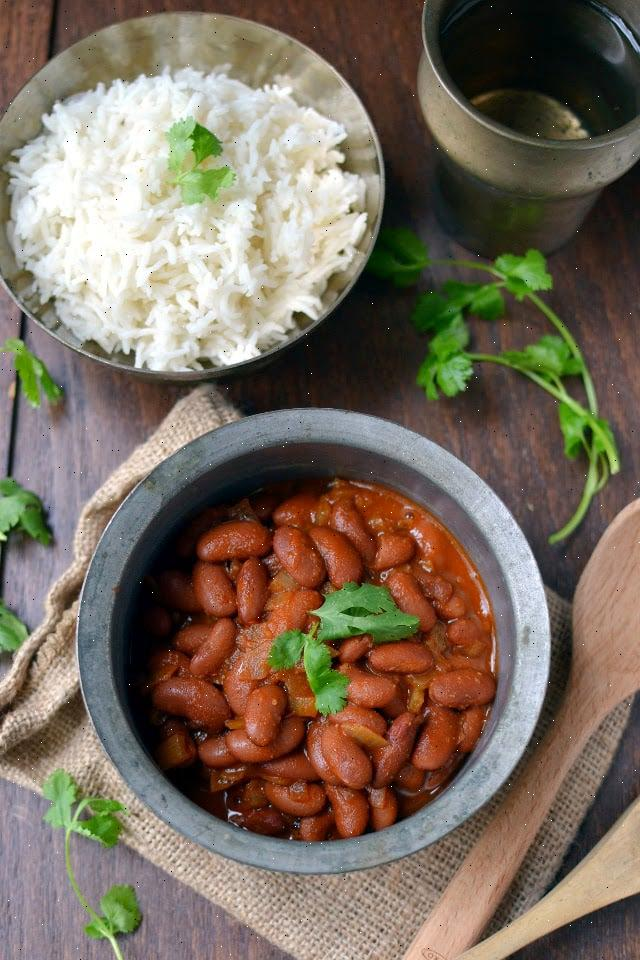rajma: (122, 488, 535, 858)
rice: (38, 55, 352, 358)
